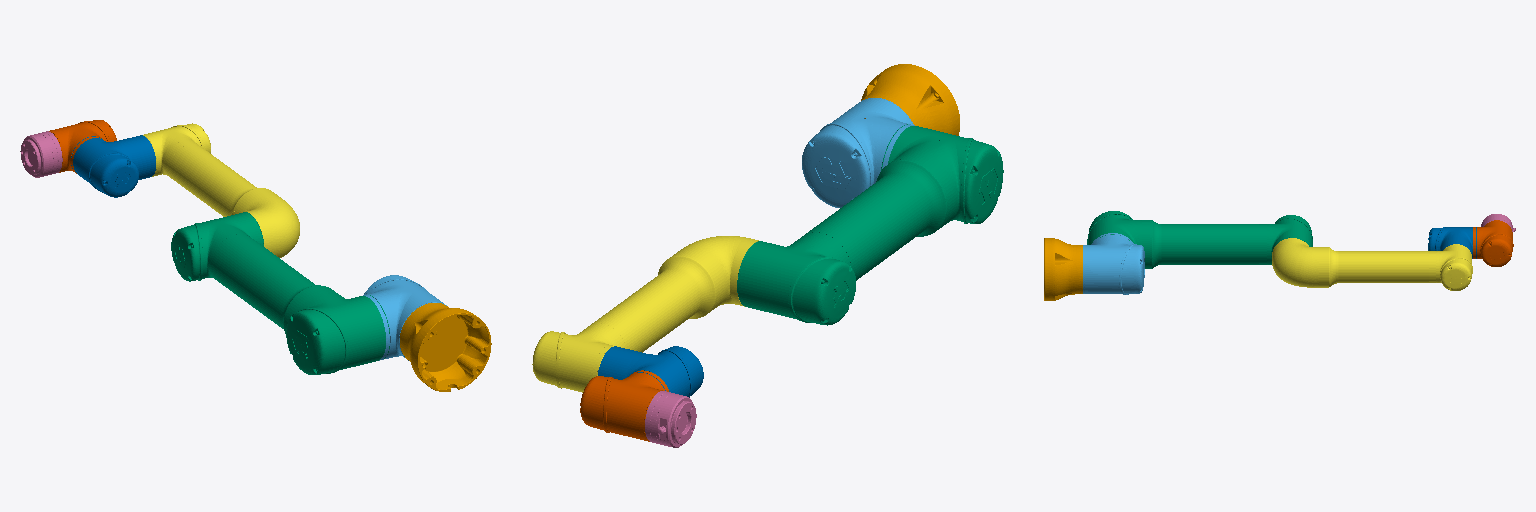
URDF robot description (robot):
<?xml version="1.0" encoding="UTF-8"?>
<robot name="robot">
  <link name="base_link">
    <inertial>
      <mass value="0.48018175"/>
      <origin xyz="0.00001432 0.06023352 -0.00059246" rpy="0 0 0"/>
      <inertia ixx="0.0008491" ixy="3.9e-7" ixz="6e-8" iyy="0.0011827" iyz="-0.00001095" izz="0.00090352"/>
    </inertial>
    <visual>
      <origin xyz="0 0 0" rpy="0 0 0"/>
      <geometry>
        <mesh filename="meshes/base_link.stl"/>
      </geometry>
    </visual>
    <collision>
      <origin xyz="0 0 0" rpy="0 0 0"/>
      <geometry>
        <mesh filename="meshes/base_link.stl"/>
      </geometry>
    </collision>
  </link>
  <link name="link1">
    <inertial>
      <mass value="1.51560001"/>
      <origin xyz="0.00000506 0.00788392 0.07109553" rpy="0 0 0"/>
      <inertia ixx="0.00413265" ixy="-2e-8" ixz="-5.6e-7" iyy="0.00381716" iyz="-0.00004037" izz="0.00310612"/>
    </inertial>
    <visual>
      <origin xyz="0 0 0" rpy="0 0 0"/>
      <geometry>
        <mesh filename="meshes/link1.stl"/>
      </geometry>
    </visual>
    <collision>
      <origin xyz="0 0 0" rpy="0 0 0"/>
      <geometry>
        <mesh filename="meshes/link1.stl"/>
      </geometry>
    </collision>
  </link>
  <link name="link2">
    <inertial>
      <mass value="4.42719561"/>
      <origin xyz="7.6e-7 0.18931668 0.07148282" rpy="0 0 0"/>
      <inertia ixx="0.12629597" ixy="0.0000022" ixz="-3.2e-7" iyy="0.00829808" iyz="-0.00028141" izz="0.12439339"/>
    </inertial>
    <visual>
      <origin xyz="0 0 0" rpy="0 0 0"/>
      <geometry>
        <mesh filename="meshes/link2.stl"/>
      </geometry>
    </visual>
    <collision>
      <origin xyz="0 0 0" rpy="0 0 0"/>
      <geometry>
        <mesh filename="meshes/link2.stl"/>
      </geometry>
    </collision>
  </link>
  <link name="link3">
    <inertial>
      <mass value="2.29424404"/>
      <origin xyz="-0.18280049 0.00000206 -0.05834231" rpy="0 0 0"/>
      <inertia ixx="0.00256946" ixy="-1.8e-7" ixz="-0.00222666" iyy="0.04949073" iyz="1.7e-7" izz="0.04897608"/>
    </inertial>
    <visual>
      <origin xyz="0 0 0" rpy="0 0 0"/>
      <geometry>
        <mesh filename="meshes/link3.stl"/>
      </geometry>
    </visual>
    <collision>
      <origin xyz="0 0 0" rpy="0 0 0"/>
      <geometry>
        <mesh filename="meshes/link3.stl"/>
      </geometry>
    </collision>
  </link>
  <link name="link4">
    <inertial>
      <mass value="0.63069945"/>
      <origin xyz="-0.00000275 -0.00487714 0.07038414" rpy="0 0 0"/>
      <inertia ixx="0.00119248" ixy="-9e-8" ixz="4e-8" iyy="0.0009031" iyz="0.00005082" izz="0.00075838"/>
    </inertial>
    <visual>
      <origin xyz="0 0 0" rpy="0 0 0"/>
      <geometry>
        <mesh filename="meshes/link4.stl"/>
      </geometry>
    </visual>
    <collision>
      <origin xyz="0 0 0" rpy="0 0 0"/>
      <geometry>
        <mesh filename="meshes/link4.stl"/>
      </geometry>
    </collision>
  </link>
  <link name="link5">
    <inertial>
      <mass value="0.49020508"/>
      <origin xyz="0.00000355 0.00607645 0.04382444" rpy="0 0 0"/>
      <inertia ixx="0.00070975" ixy="-9e-8" ixz="-2e-8" iyy="0.00042056" iyz="-0.00000743" izz="0.00065967"/>
    </inertial>
    <visual>
      <origin xyz="0 0 0" rpy="0 0 0"/>
      <geometry>
        <mesh filename="meshes/link5.stl"/>
      </geometry>
    </visual>
    <collision>
      <origin xyz="0 0 0" rpy="0 0 0"/>
      <geometry>
        <mesh filename="meshes/link5.stl"/>
      </geometry>
    </collision>
  </link>
  <link name="link6">
    <inertial>
      <mass value="0.16187407"/>
      <origin xyz="-4e-7 -0.00007279 0.01268526" rpy="0 0 0"/>
      <inertia ixx="0.00008272" ixy="0" ixz="0" iyy="0.00008296" iyz="1.4e-7" izz="0.00011486"/>
    </inertial>
    <visual>
      <origin xyz="0 0 0" rpy="0 0 0"/>
      <geometry>
        <mesh filename="meshes/link6.stl"/>
      </geometry>
    </visual>
    <collision>
      <origin xyz="0 0 0" rpy="0 0 0"/>
      <geometry>
        <mesh filename="meshes/link6.stl"/>
      </geometry>
    </collision>
  </link>
  <joint name="Joint_1" type="revolute">
    <parent link="base_link"/>
    <child link="link1"/>
    <origin xyz="0 0.0923 0" rpy="0 1.57079633 1.57079633"/>
    <axis xyz="0 0 1"/>
    <limit lower="-3.14159" upper="3.14159" effort="10" velocity="1"/>
  </joint>
  <joint name="Joint_2" type="revolute">
    <parent link="link1"/>
    <child link="link2"/>
    <origin xyz="0 0.0704 0.07019998" rpy="1.57079633 0 -3.14159265"/>
    <axis xyz="0 0 1"/>
    <limit lower="-3.14159" upper="3.14159" effort="10" velocity="1"/>
  </joint>
  <joint name="Joint_3" type="revolute">
    <parent link="link2"/>
    <child link="link3"/>
    <origin xyz="0 0.427 0.00339999" rpy="0 0 -1.57079633"/>
    <axis xyz="0 0 1"/>
    <limit lower="-3.14159" upper="3.14159" effort="10" velocity="1"/>
  </joint>
  <joint name="Joint_4" type="revolute">
    <parent link="link3"/>
    <child link="link4"/>
    <origin xyz="-0.3905 0 -0.0158" rpy="0 0 1.57079633"/>
    <axis xyz="0 0 1"/>
    <limit lower="-3.14159" upper="3.14159" effort="10" velocity="1"/>
  </joint>
  <joint name="Joint_5" type="revolute">
    <parent link="link4"/>
    <child link="link5"/>
    <origin xyz="0 0.0475 0.08949999" rpy="-1.57079633 0 0"/>
    <axis xyz="0 0 1"/>
    <limit lower="-3.14159" upper="3.14159" effort="10" velocity="1"/>
  </joint>
  <joint name="Joint_6" type="revolute">
    <parent link="link5"/>
    <child link="link6"/>
    <origin xyz="0 -0.05775 0.049" rpy="1.57079633 -0.00546812 0"/>
    <axis xyz="0 0 1"/>
    <limit lower="-3.14159" upper="3.14159" effort="10" velocity="1"/>
  </joint>
</robot>

--- What the picture shows (computed from the rendered views, not written in the file) ---
3 views of the same robot in one strip: view 1: azimuth 30°, elevation 25°; view 2: azimuth 150°, elevation 25°; view 3: azimuth 270°, elevation 25° (orthographic).
Robot: robot — 7 links, 6 joints (6 revolute); root link base_link; default pose: every joint at zero.
Links seen in each view (by area): view 1: link2, link3, base_link, link4, link1, link6, link5; view 2: link2, link3, link1, base_link, link5, link4, link6; view 3: link2, link3, link1, base_link, link5, link4.
Boxes of the visible links, x1,y1,x2,y2 form: link2: (171,212,389,374); link3: (143,123,299,257); base_link: (400,303,491,391); link4: (71,135,155,197); link1: (363,275,446,360); link6: (20,131,62,177); link5: (49,120,116,173); link2: (737,124,1003,325); link3: (532,236,758,392); link1: (802,98,914,207); base_link: (861,64,959,135); link5: (580,370,668,441); link4: (598,346,703,397); link6: (645,391,696,447); link2: (1087,211,1312,268); link3: (1272,238,1472,290); link1: (1083,233,1144,294); base_link: (1044,238,1082,300); link5: (1473,220,1513,266); link4: (1428,227,1476,258).
Size in the robot's own frame: 0.3175 by 1.12 by 0.1497 metres.
7 mesh visuals loaded from 7 distinct referenced files (7 binary STL).
